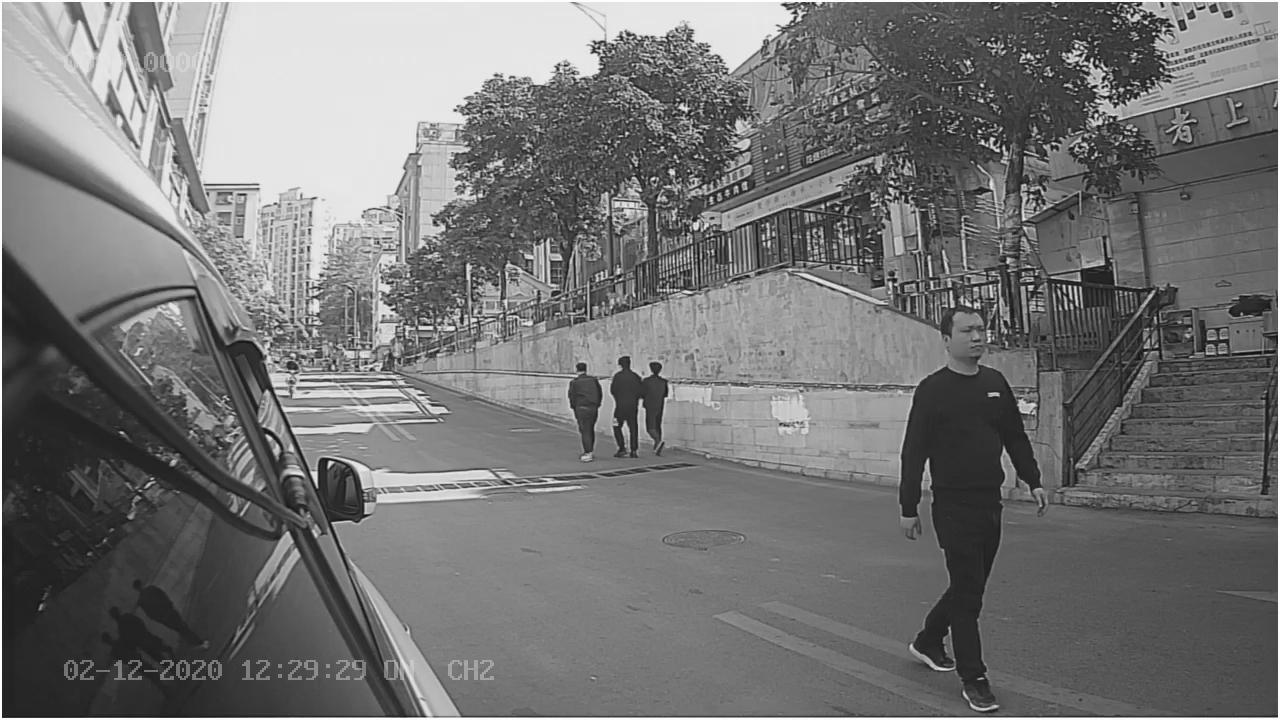person: (892, 304, 1053, 712)
